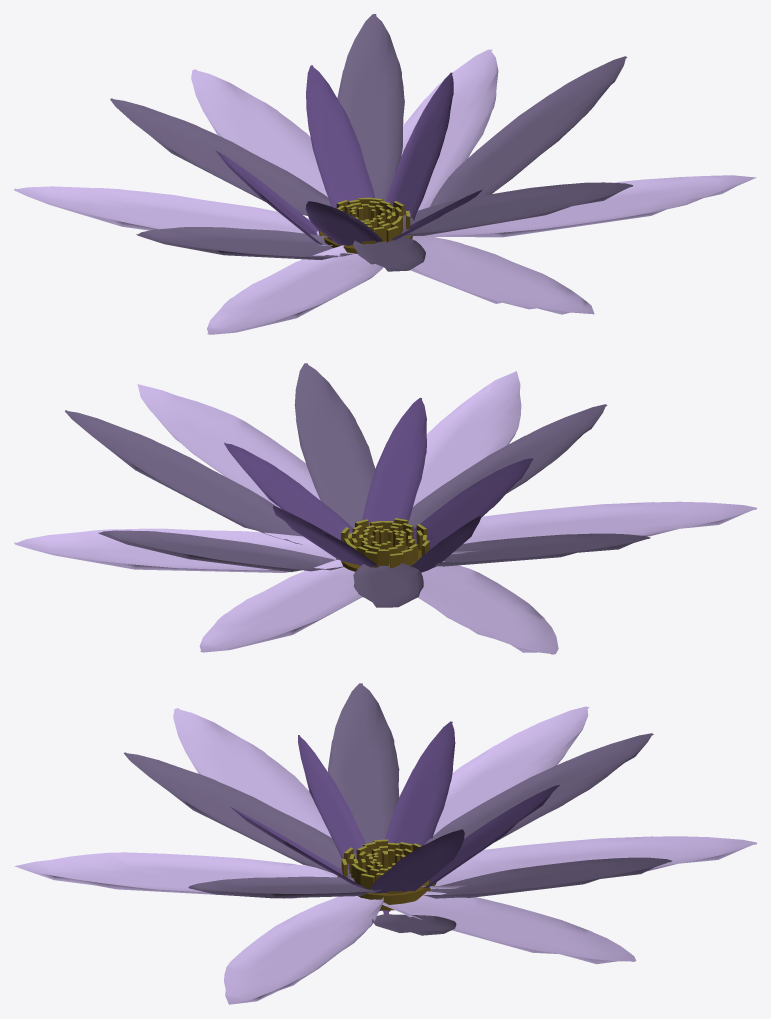
The model's file is KK-Seerose.obj.
3 renders of one model, top to bottom at view 1: azimuth 30°, elevation 25°; view 2: azimuth 150°, elevation 25°; view 3: azimuth 270°, elevation 25°, orthographic. The views are drawn at different scales.
Parts seen in each view (by area): view 1: seerose Ebene2 pPlane10, seerose Ebene2 pPlane9, unterste_Ebene seerose pPlane2, unterste_Ebene seerose pPlane3, unterste_Ebene seerose pPlane4, pPlane1 unterste_Ebene seerose, unterste_Ebene seerose pPlane5, seerose einzelnes_blatt_seerose:pPlane1 Ebene2, unterste_Ebene seerose pPlane6, seerose Ebene2 pPlane8, seerose pPlane1 Ebene3, seerose Ebene2 pPlane1 (+6 smaller); view 2: seerose Ebene2 pPlane8, seerose Ebene2 pPlane10, unterste_Ebene seerose pPlane3, pPlane1 unterste_Ebene seerose, unterste_Ebene seerose pPlane5, unterste_Ebene seerose pPlane2, unterste_Ebene seerose pPlane4, unterste_Ebene seerose pPlane6, seerose Ebene2 pPlane7, seerose Ebene3 pPlane8, seerose Ebene2 pPlane9, seerose Ebene2 pPlane1 (+6 smaller); view 3: unterste_Ebene seerose pPlane5, unterste_Ebene seerose pPlane4, seerose Ebene2 pPlane1, unterste_Ebene seerose pPlane6, unterste_Ebene seerose pPlane3, seerose Ebene2 pPlane7, pPlane1 unterste_Ebene seerose, unterste_Ebene seerose pPlane2, seerose einzelnes_blatt_seerose:pPlane1 Ebene2, seerose Ebene3 pPlane2, seerose Ebene2 pPlane9, seerose Ebene2 pPlane8 (+6 smaller).
Part boxes in pixels (left/top/right/bottom): seerose Ebene2 pPlane10: left=430, top=56, right=627, bottom=206; seerose Ebene2 pPlane9: left=337, top=14, right=404, bottom=201; unterste_Ebene seerose pPlane2: left=14, top=186, right=332, bottom=245; unterste_Ebene seerose pPlane3: left=207, top=245, right=383, bottom=334; unterste_Ebene seerose pPlane4: left=410, top=235, right=594, bottom=314; pPlane1 unterste_Ebene seerose: left=191, top=69, right=327, bottom=196; unterste_Ebene seerose pPlane5: left=427, top=175, right=756, bottom=237; seerose einzelnes_blatt_seerose:pPlane1 Ebene2: left=110, top=98, right=331, bottom=215; unterste_Ebene seerose pPlane6: left=401, top=49, right=498, bottom=210; seerose Ebene2 pPlane8: left=401, top=182, right=633, bottom=236; seerose pPlane1 Ebene3: left=306, top=65, right=374, bottom=208; seerose Ebene2 pPlane1: left=136, top=227, right=355, bottom=260; seerose Ebene2 pPlane8: left=294, top=363, right=375, bottom=533; seerose Ebene2 pPlane10: left=65, top=410, right=302, bottom=544; unterste_Ebene seerose pPlane3: left=451, top=501, right=756, bottom=554; pPlane1 unterste_Ebene seerose: left=199, top=559, right=362, bottom=652; unterste_Ebene seerose pPlane5: left=137, top=384, right=320, bottom=508; unterste_Ebene seerose pPlane2: left=418, top=561, right=558, bottom=654; unterste_Ebene seerose pPlane4: left=413, top=371, right=521, bottom=506; unterste_Ebene seerose pPlane6: left=14, top=528, right=336, bottom=572; seerose Ebene2 pPlane7: left=406, top=404, right=607, bottom=549; seerose Ebene3 pPlane8: left=362, top=397, right=426, bottom=525; seerose Ebene2 pPlane9: left=98, top=530, right=343, bottom=572; seerose Ebene2 pPlane1: left=435, top=533, right=650, bottom=566; unterste_Ebene seerose pPlane5: left=224, top=896, right=383, bottom=1004; unterste_Ebene seerose pPlane4: left=14, top=852, right=337, bottom=898; seerose Ebene2 pPlane1: left=328, top=683, right=399, bottom=843; unterste_Ebene seerose pPlane6: left=378, top=891, right=636, bottom=964; unterste_Ebene seerose pPlane3: left=173, top=708, right=337, bottom=877; seerose Ebene2 pPlane7: left=124, top=752, right=356, bottom=877; pPlane1 unterste_Ebene seerose: left=421, top=836, right=756, bottom=889; unterste_Ebene seerose pPlane2: left=433, top=706, right=589, bottom=835; seerose einzelnes_blatt_seerose:pPlane1 Ebene2: left=424, top=733, right=653, bottom=844; seerose Ebene3 pPlane2: left=383, top=721, right=455, bottom=914; seerose Ebene2 pPlane9: left=422, top=857, right=671, bottom=898; seerose Ebene2 pPlane8: left=188, top=876, right=382, bottom=898.
Size of the model in its own units: 5.64 by 1.34 by 5.99.
